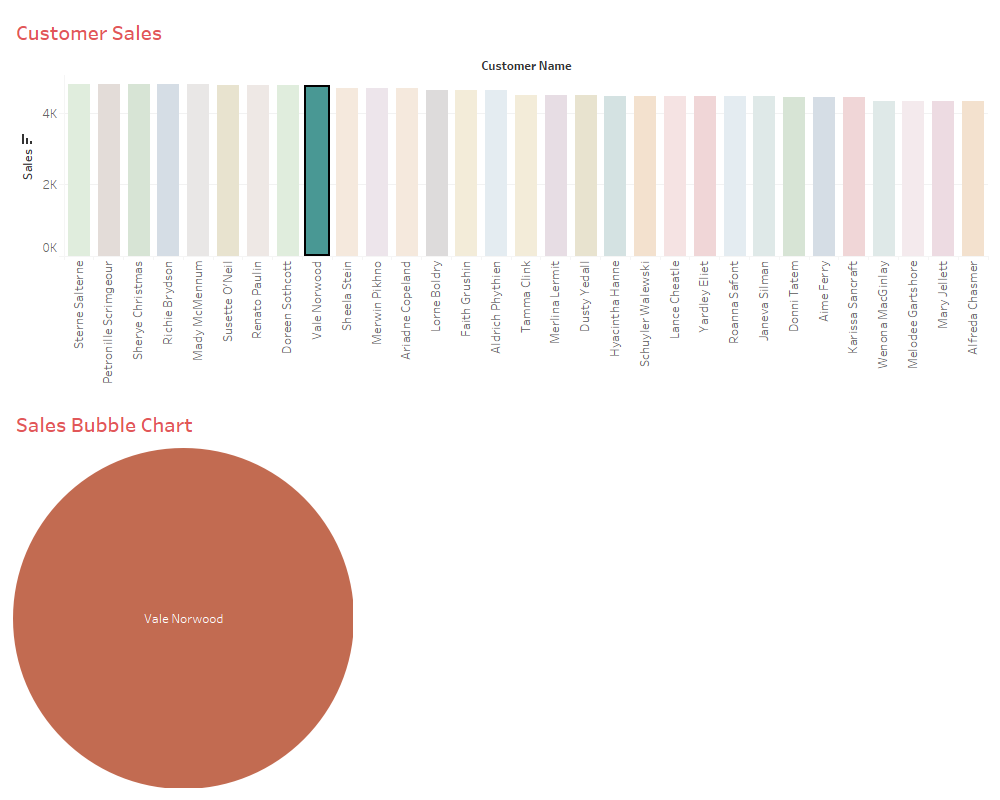

The dashboard page shown, as its layout file describes it:
{"tool":"tableau","page":{"name":"Dashboard 1","canvas":[1000,800],"ordinal":0},"visuals":[{"type":"worksheet","title":"Customer Sales","mark":"Automatic","rows":["Sales"],"cols":["Customer Name"],"box":[8,8,984,392]},{"type":"worksheet","title":"Bubble Chart","mark":"Circle","box":[8,400,984,392]}]}

Visuals, with their boxes in screenshot pixels (x1, y1, x2, y2), scaled from the page's 1000x800 canvas onto the 1000x800 screenshot:
"Customer Sales" worksheet: [8,8,992,400]
"Bubble Chart" worksheet (Circle marks): [8,400,992,792]
